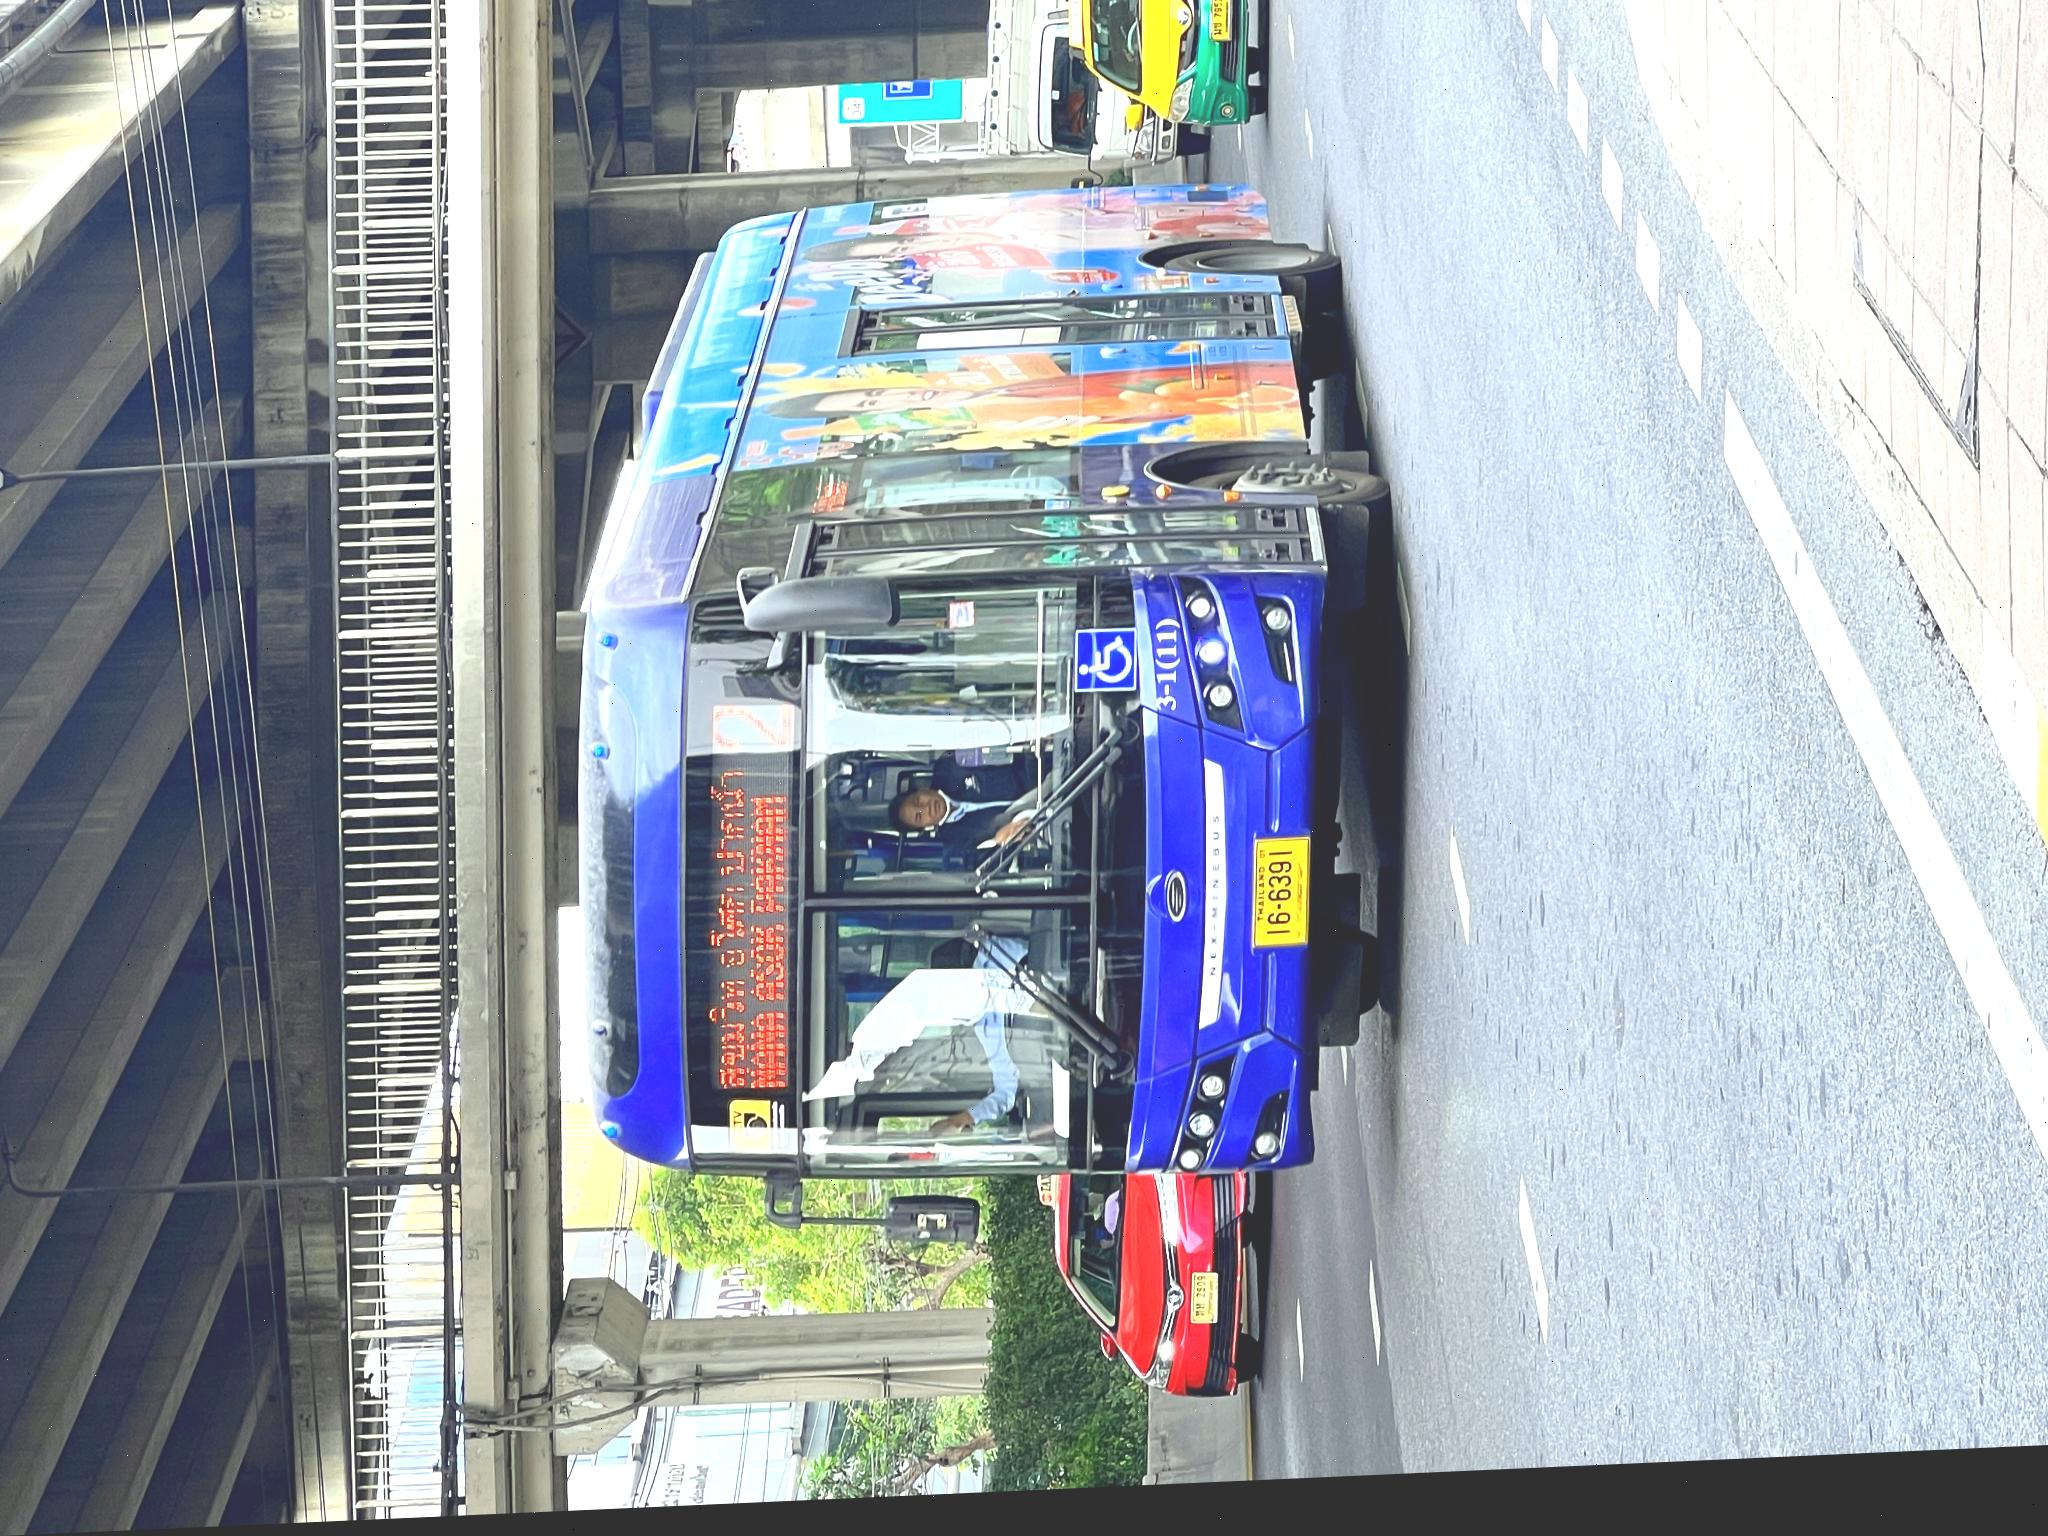Bus Line Number: (739, 666, 814, 783)
Bus Side Number: (764, 1120, 871, 1162)
Destination Sign: (405, 678, 739, 787)
TSB-Bus: (303, 539, 1306, 1376)
